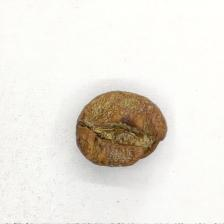NG: (84, 91, 165, 166)
